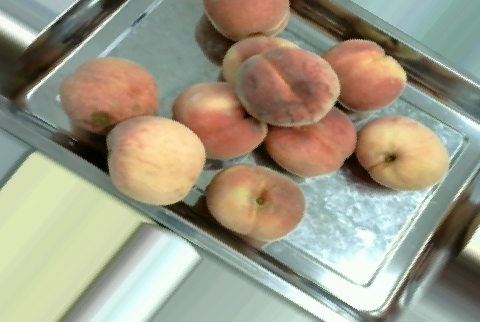Peach: (233, 41, 338, 130), (105, 115, 206, 205), (204, 163, 305, 242), (60, 56, 159, 135), (263, 103, 358, 181), (353, 114, 448, 191), (175, 83, 264, 160), (323, 37, 405, 115), (196, 2, 295, 41)
